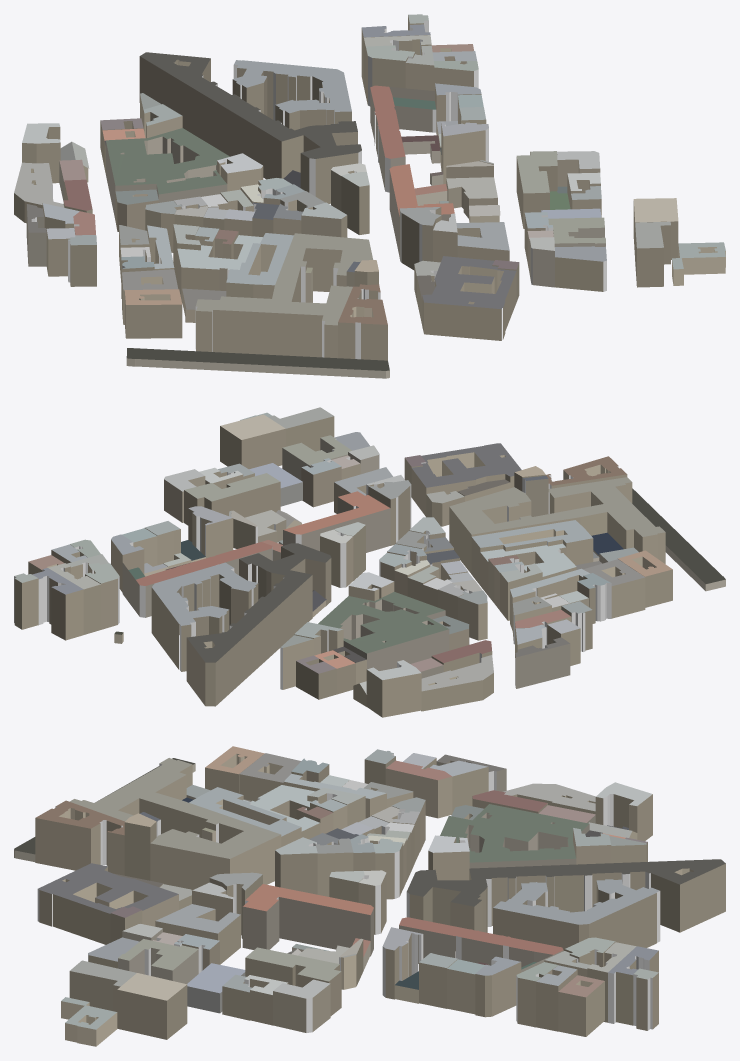
3 views of the same model, one above another, from view 1: azimuth 30°, elevation 25°; view 2: azimuth 150°, elevation 25°; view 3: azimuth 270°, elevation 25° (orthographic). The views are drawn at different scales.
Visible parts, largest first — view 1: tuile; view 2: tuile; view 3: tuile.
Boxes of the visible parts, x1=… form: tuile: x1=14, y1=14, x2=725, y2=378; tuile: x1=14, y1=407, x2=725, y2=717; tuile: x1=14, y1=746, x2=725, y2=1046.
Bounding box in the file's own units: 289 × 30.86 × 311.
